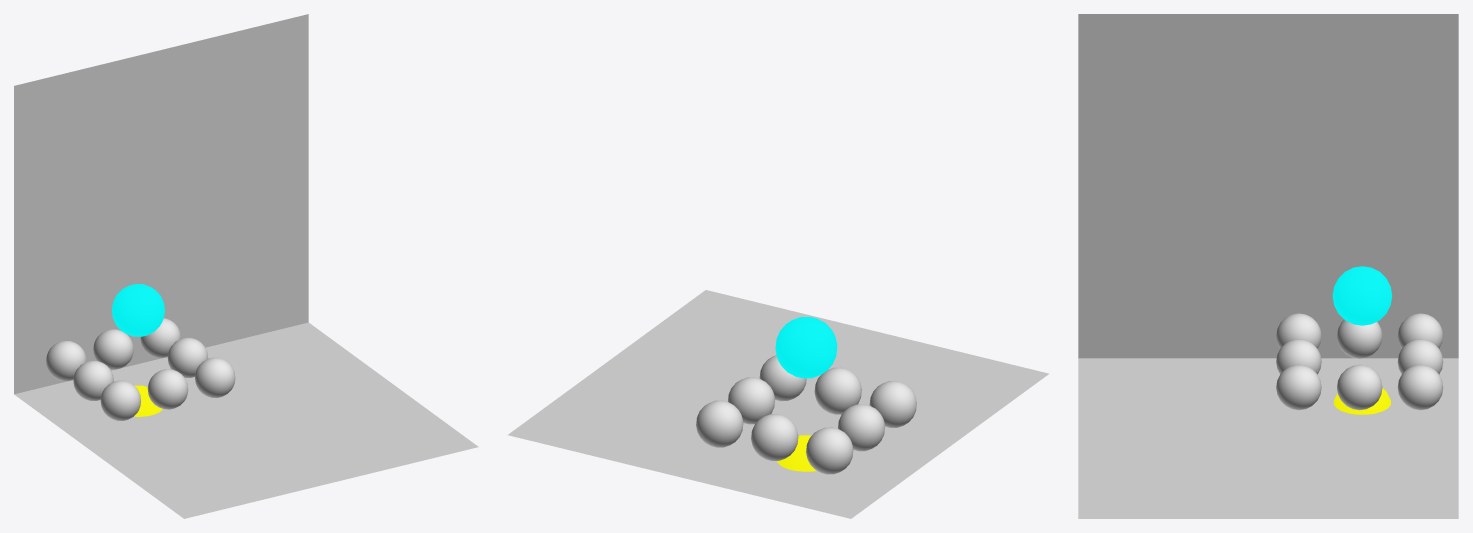
The model's file is GIBox.gltf.
3 renders of one model, left to right at view 1: azimuth 30°, elevation 25°; view 2: azimuth 150°, elevation 25°; view 3: azimuth 270°, elevation 25°, orthographic. The views are drawn at different scales.
Visible parts, largest first — view 1: Cube, Icosphere, Icosphere.001, Icosphere.007, Icosphere.008, Icosphere.002, Icosphere.006, Icosphere.003, Icosphere.004, Icosphere.005; view 2: Cube, Icosphere, Icosphere.005, Icosphere.006, Icosphere.002, Icosphere.001, Icosphere.003, Icosphere.007, Icosphere.004, Icosphere.008, Icosphere.009; view 3: Cube, Icosphere, Icosphere.005, Icosphere.008, Icosphere.004, Icosphere.003, Icosphere.007, Icosphere.002, Icosphere.001, Icosphere.006, Icosphere.009.
Boxes of the visible parts, x1,y1,x2,y2 form: Cube: (14,14,478,518); Icosphere: (112,284,164,336); Icosphere.001: (147,369,188,409); Icosphere.007: (100,380,140,420); Icosphere.008: (195,357,235,397); Icosphere.002: (93,329,133,369); Icosphere.006: (46,340,86,381); Icosphere.003: (73,360,113,400); Icosphere.004: (167,337,208,377); Icosphere.005: (140,318,180,358); Cube: (508,290,1048,518); Icosphere: (775,316,837,378); Icosphere.005: (696,400,743,447); Icosphere.006: (806,427,853,474); Icosphere.002: (751,414,798,460); Icosphere.001: (814,367,861,414); Icosphere.003: (838,404,884,451); Icosphere.007: (869,381,916,427); Icosphere.004: (728,377,774,424); Icosphere.008: (759,355,806,401); Icosphere.009: (777,435,816,471); Cube: (1078,14,1458,518); Icosphere: (1332,266,1392,325); Icosphere.005: (1397,364,1443,410); Icosphere.008: (1276,364,1321,410); Icosphere.004: (1337,364,1382,410); Icosphere.003: (1337,319,1382,358); Icosphere.007: (1276,313,1321,348); Icosphere.002: (1397,339,1443,374); Icosphere.001: (1276,339,1321,374); Icosphere.006: (1397,313,1443,348); Icosphere.009: (1334,388,1390,414).
Bounding box in the file's own units: 5 × 5.49 × 5.
